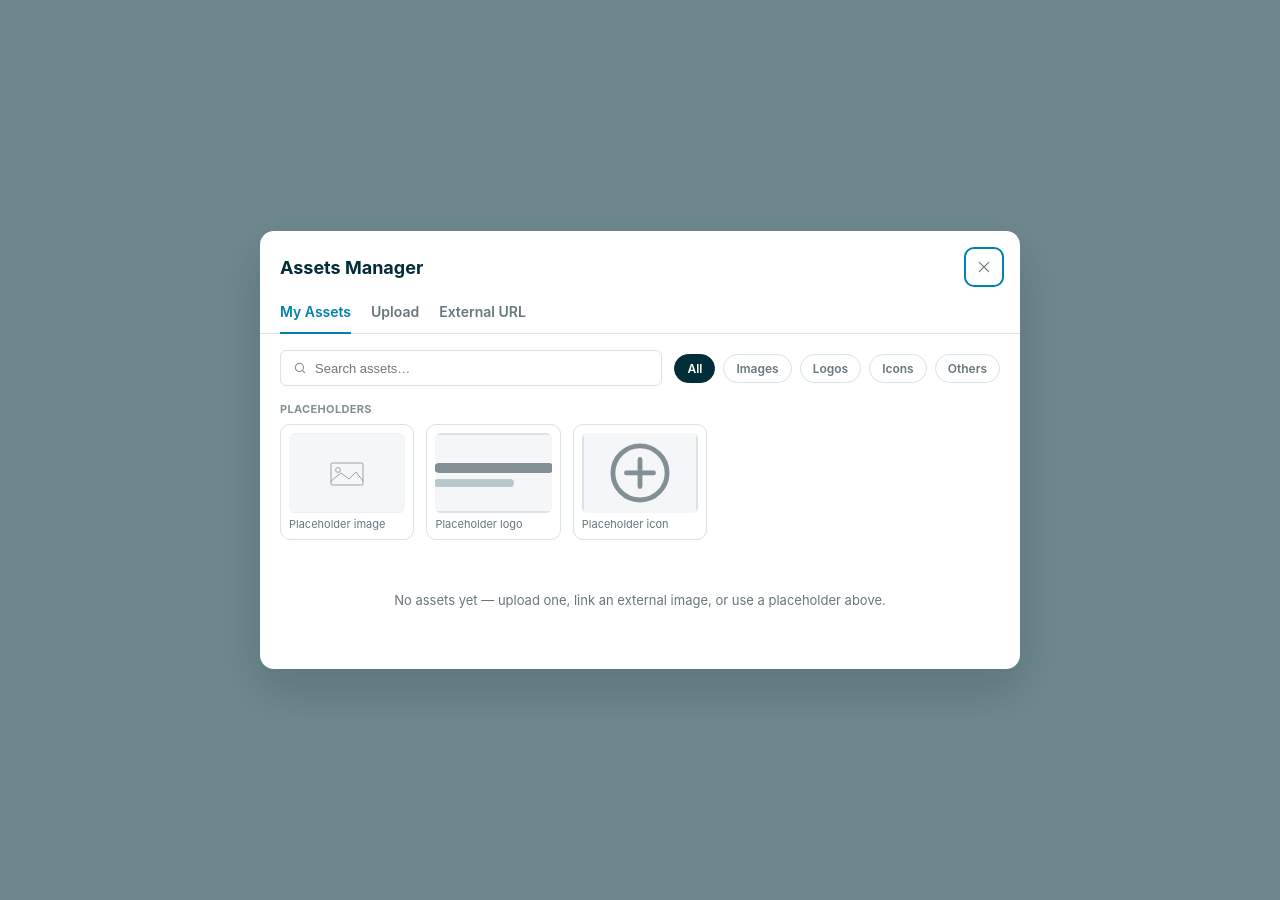
Test: AssetManagerDialog — external URL tab › adds an external URL asset
The width and height of the screenshot is (1280, 900).
Expected: the text "Placeholder image" is shown, [289,517,385,531]
Click the tab "External URL". click: click(482, 314)
box: [439,295,526,334]
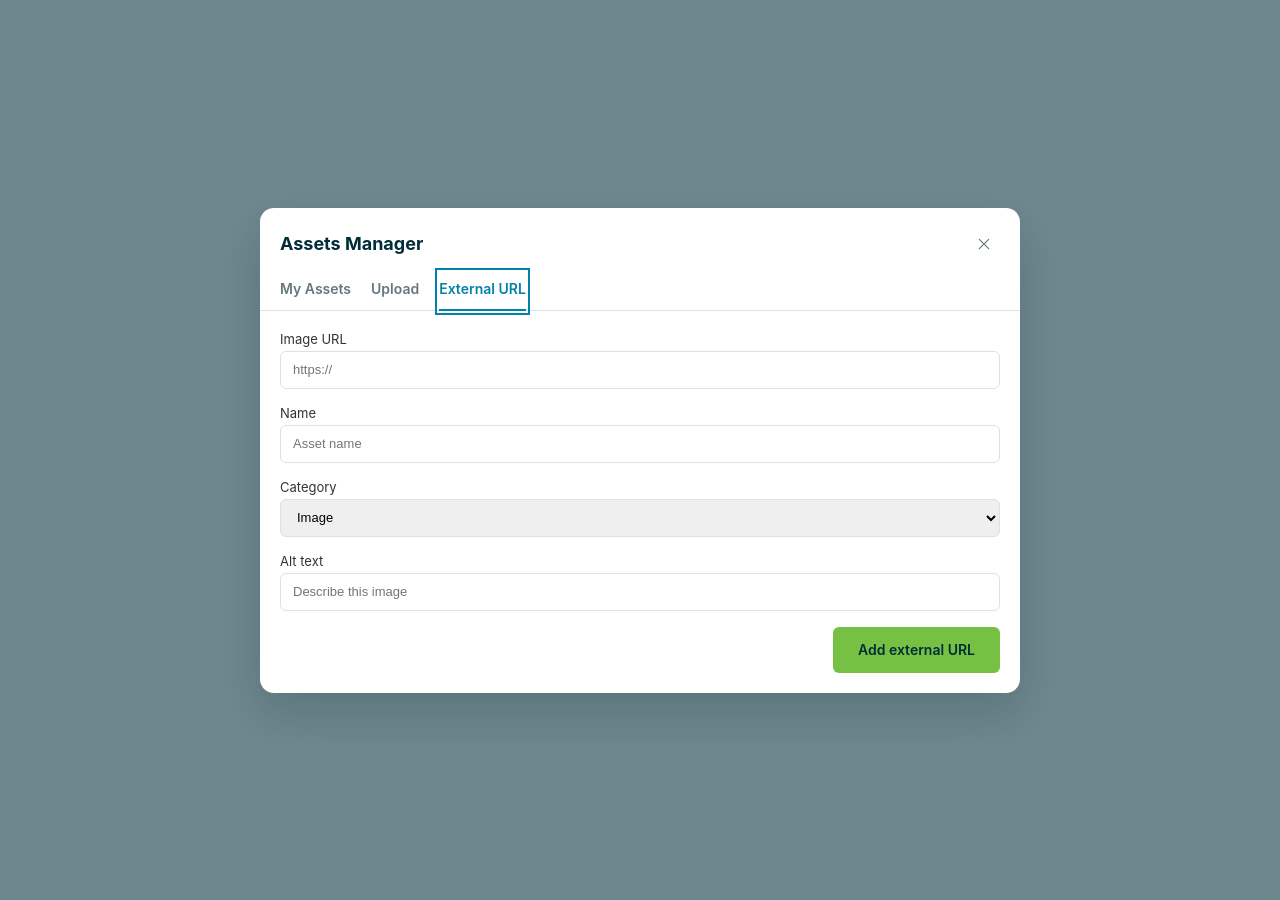
Type "https://cdn.example.com/logo.png" into the field with placeholder "https://". click: (640, 370)
box: [280,350,1000,388]
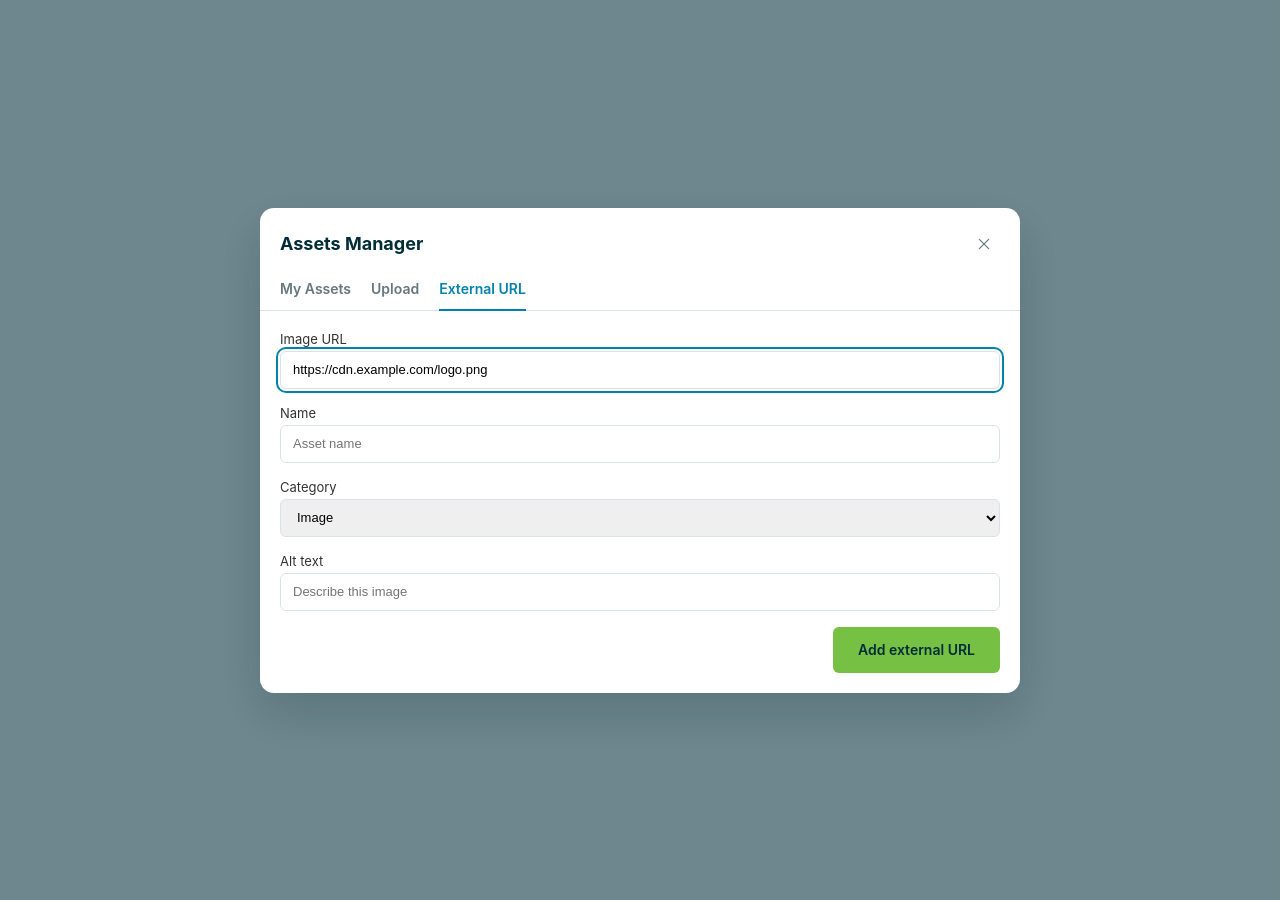
Type "CDN logo" into the field with placeholder "Asset name". click: (640, 444)
box: [280,424,1000,462]
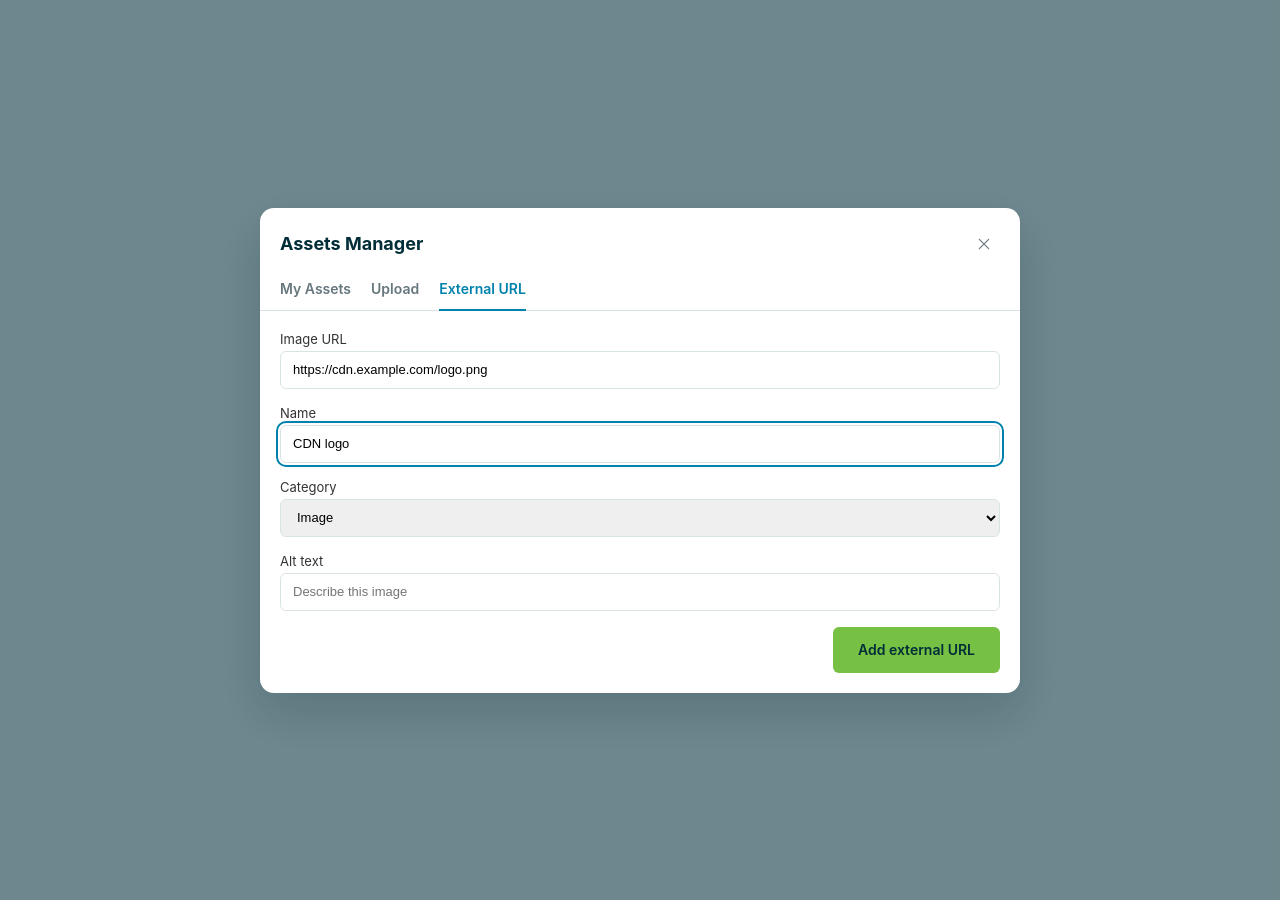
Click the button "Add external URL". click: click(916, 650)
box: [833,626,1000,672]
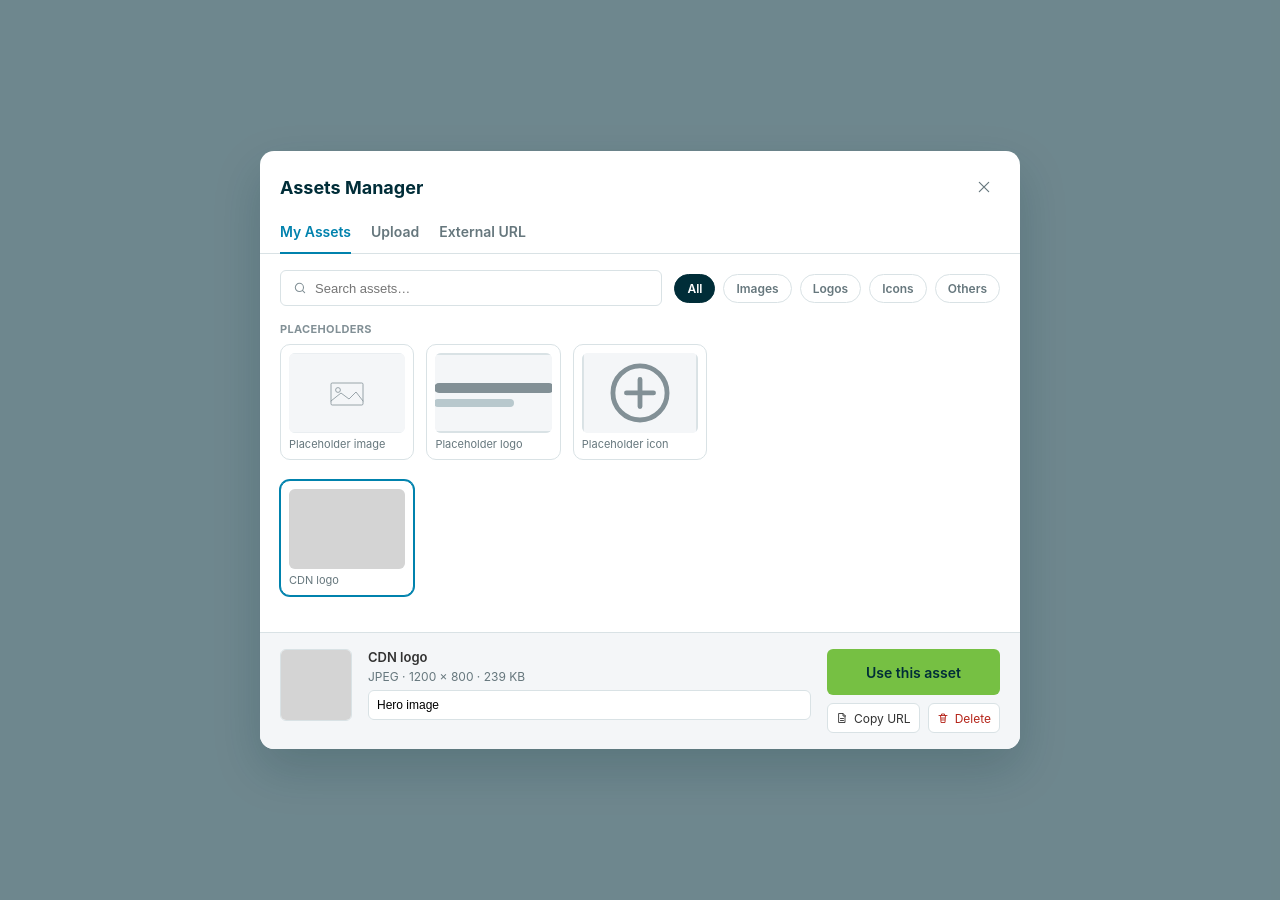
Expected: the text "CDN logo" below "Placeholders" is shown, [289,573,339,587]
